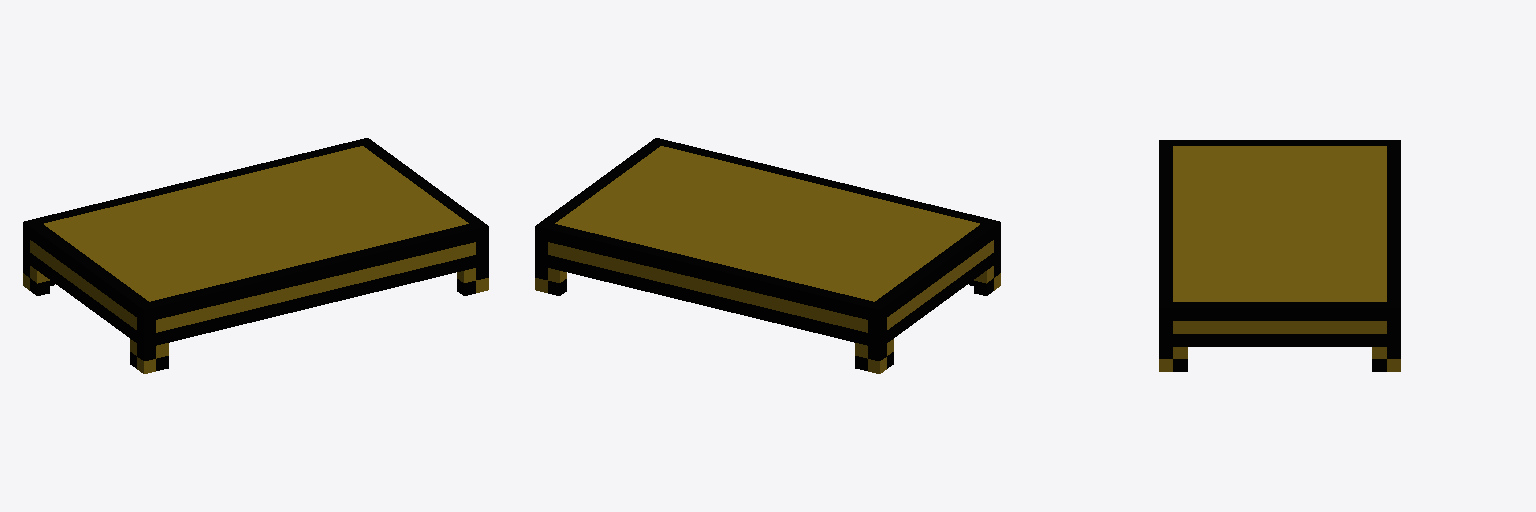
The picture shows the model from 3 angles: view 1: azimuth 30°, elevation 25°; view 2: azimuth 150°, elevation 25°; view 3: azimuth 270°, elevation 25°; orthographic projection.
Parts seen in each view (by area): view 1: Model; view 2: Model; view 3: Model.
Boxes of the visible parts, x1=… form: Model: x1=23, y1=138, x2=488, y2=373; Model: x1=535, y1=138, x2=1000, y2=373; Model: x1=1159, y1=140, x2=1400, y2=371.
Bounding box in the file's own units: 32 × 5.71 × 19.43.
1 materials, 1 textured.